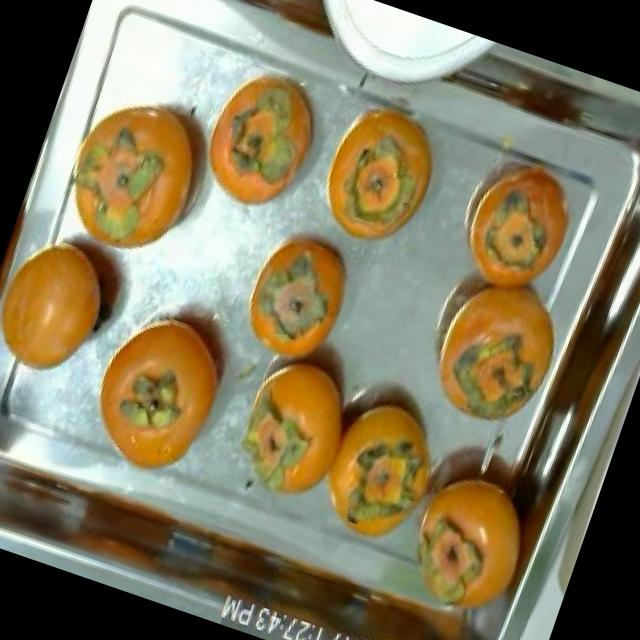Fruit: (52, 268, 260, 505), (45, 60, 243, 288), (388, 233, 582, 454), (379, 441, 550, 640), (178, 42, 347, 238), (299, 79, 466, 273), (436, 128, 605, 312), (220, 204, 376, 387), (0, 208, 142, 405)
